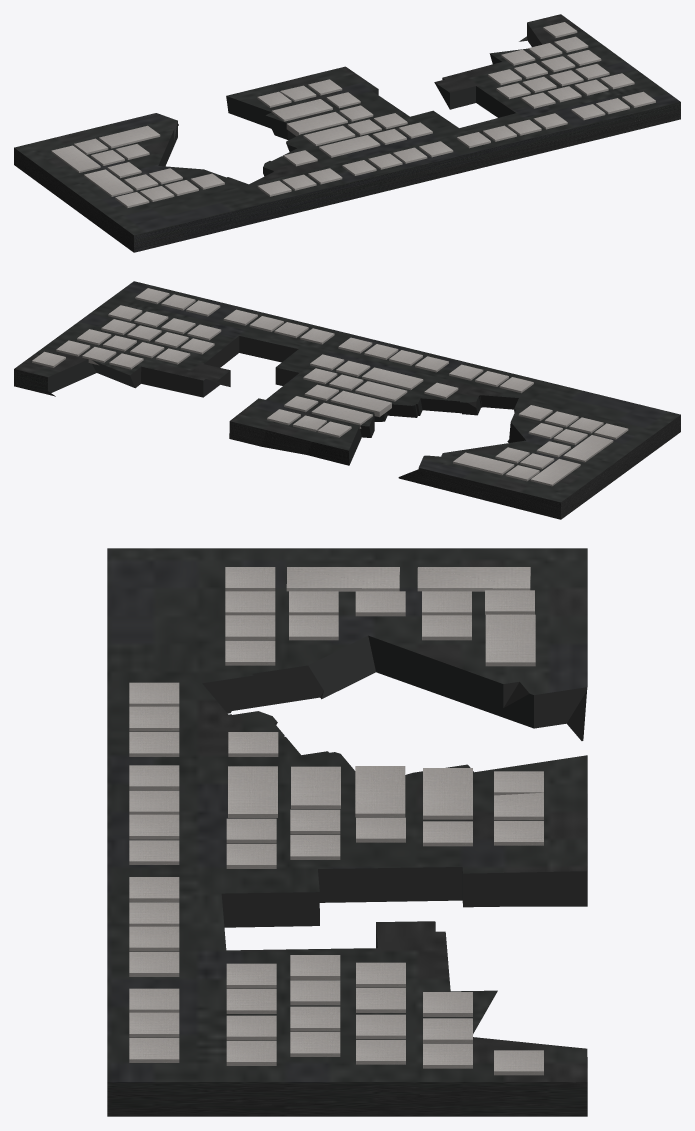
File: keyboard two.fbx
The picture shows the model from 3 angles, top to bottom: view 1: azimuth 30°, elevation 25°; view 2: azimuth 150°, elevation 25°; view 3: azimuth 270°, elevation 25°; orthographic projection. The views are drawn at different scales.
Visible parts, largest first — view 1: Cube, Cube.084, Cube.036, Cube.049, Cube.083, Cube.037, Cube.038, Cube.085; view 2: Cube, Cube.084, Cube.083, Cube.049, Cube.036, Cube.037, Cube.038, Cube.085, Cube.064; view 3: Cube, Cube.037, Cube.038, Cube.036, Cube.084, Cube.049, Cube.083, Cube.085, Cube.088, Cube.004, Cube.007, Cube.009 (+46 smaller).
Boxes of the visible parts, x1,y1,x2,y2 form: Cube: (14,14,680,252); Cube.084: (286,112,347,136); Cube.036: (99,125,160,148); Cube.049: (319,135,380,157); Cube.083: (271,99,332,121); Cube.037: (84,169,133,196); Cube.038: (51,145,100,172); Cube.085: (303,125,355,145); Cube: (14,281,680,519); Cube.084: (330,390,391,417); Cube.083: (311,402,372,428); Cube.049: (362,367,423,390); Cube.036: (453,452,514,475); Cube.037: (563,435,613,462); Cube.038: (530,459,580,486); Cube.085: (355,381,407,401); Cube.064: (82,347,116,365); Cube: (107,548,587,1116); Cube.037: (286,567,399,591); Cube.038: (417,567,530,591); Cube.036: (485,614,535,666); Cube.084: (355,766,405,817); Cube.049: (228,766,277,817); Cube.083: (423,768,472,819); Cube.085: (291,766,340,808); Cube.088: (494,792,543,820); Cube.004: (129,926,179,951); Cube.007: (129,814,179,839); Cube.009: (129,765,179,790).
Bounding box in the file's own units: 202 × 6.95 × 76.94.
